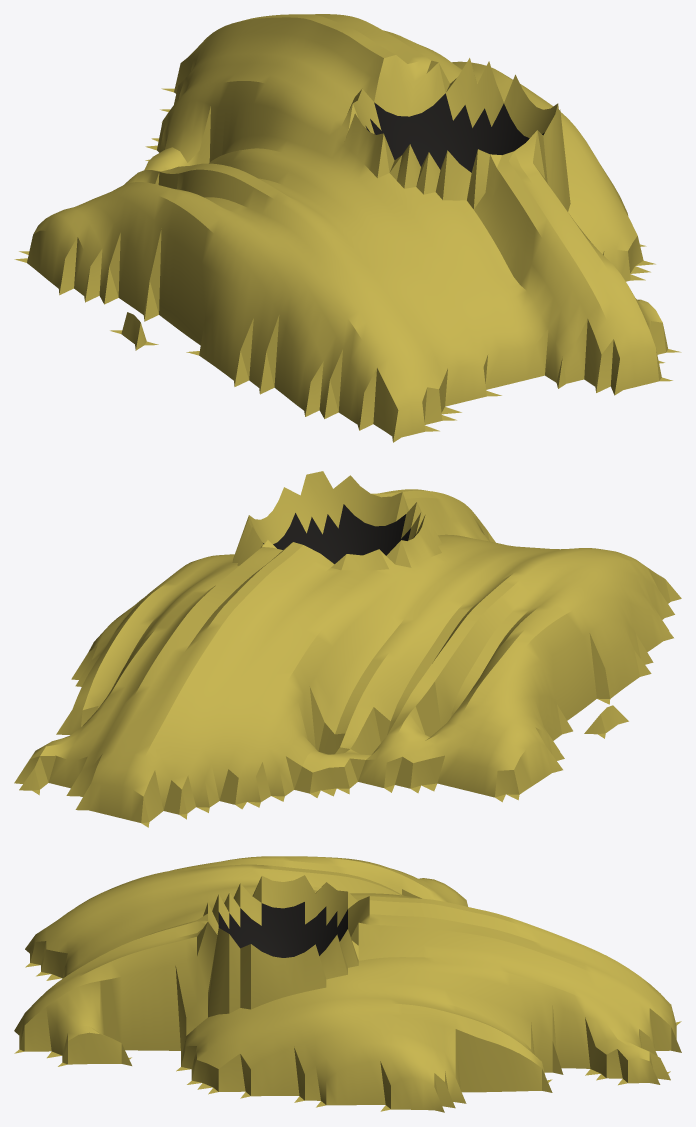
File: sulfuric-acid-geyser.glb
The picture shows the model from 3 angles, top to bottom: view 1: azimuth 30°, elevation 25°; view 2: azimuth 150°, elevation 25°; view 3: azimuth 270°, elevation 25°; orthographic projection. The views are drawn at different scales.
Parts seen in each view (by area): view 1: body; view 2: body; view 3: body.
Boxes of the visible parts, x1,y1,x2,y2 form: body: [14, 14, 681, 442]; body: [14, 471, 681, 827]; body: [14, 856, 681, 1112].
Bounding box in the file's own units: 1.84 × 0.5728 × 2.58.
